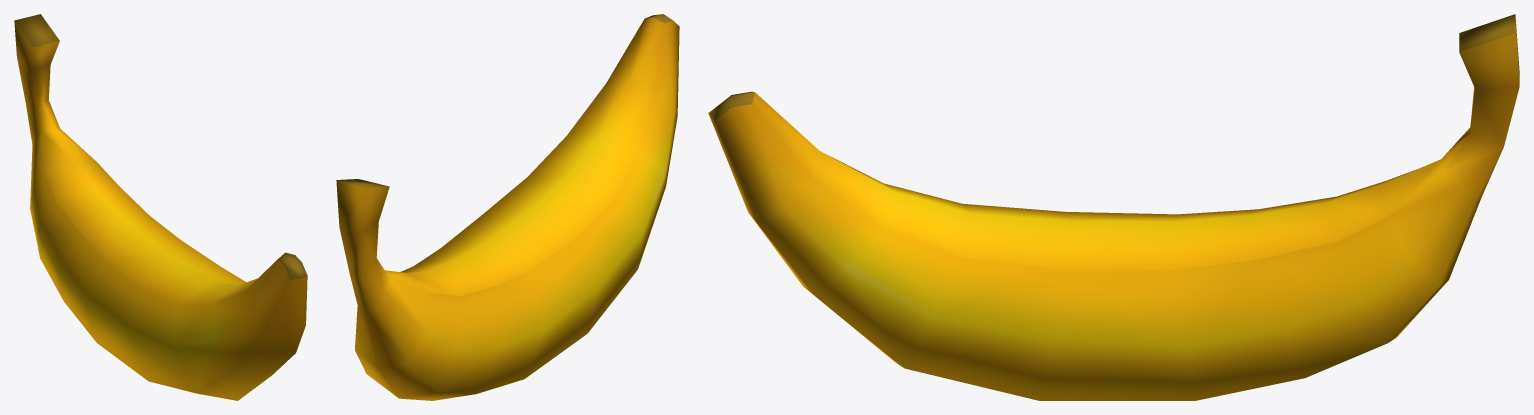
Rendered from banana.fbx.
3 views of the same model, side by side, from view 1: azimuth 30°, elevation 25°; view 2: azimuth 150°, elevation 25°; view 3: azimuth 270°, elevation 25° (orthographic). The views are drawn at different scales.
Parts seen in each view (by area): view 1: banana; view 2: banana; view 3: banana.
Boxes of the visible parts, x1,y1,x2,y2 form: banana: (14,14,307,400); banana: (336,14,679,400); banana: (708,14,1519,400).
Size of the model in its own units: 4.34 by 9.58 by 19.03.
